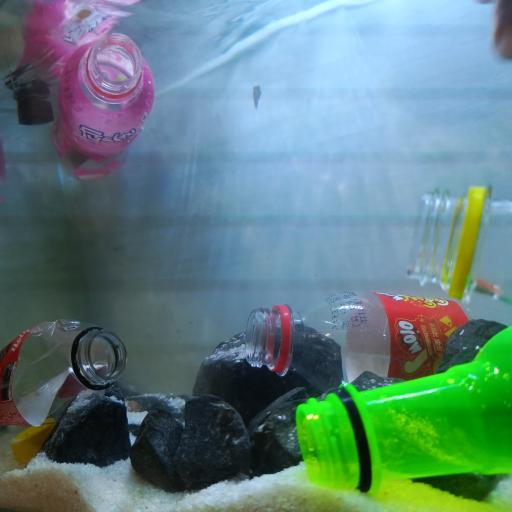bottle_cap: (12, 416, 57, 470), (16, 77, 57, 127)
plastic_bottle: (294, 326, 512, 493), (247, 288, 506, 397), (50, 28, 154, 187), (2, 310, 130, 438), (403, 183, 512, 309)
